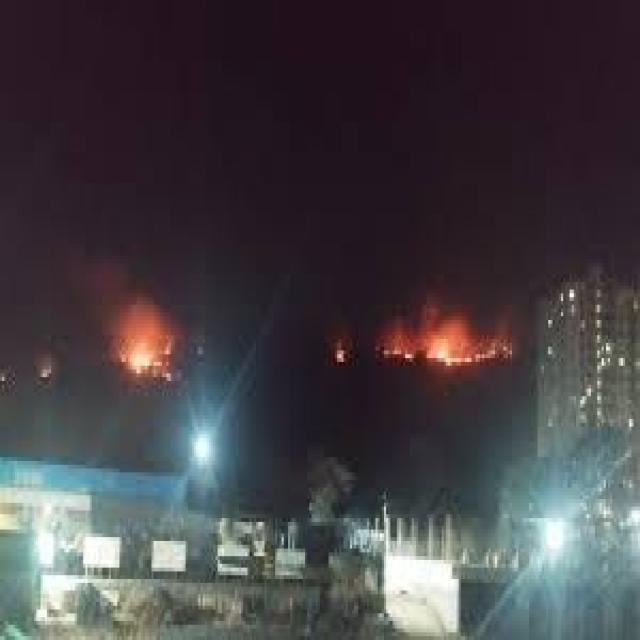fire: (381, 323, 511, 365), (116, 333, 168, 373)
